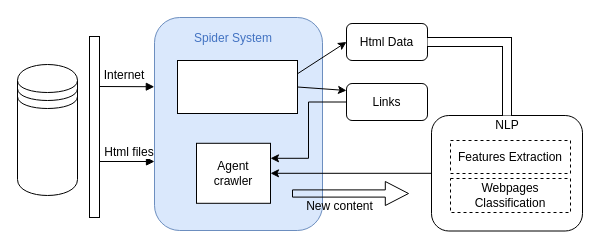
This 600x249 diagram has some shape labels left out. Each missing label, with the centre of its shape:
"Simple Spider" belongs at point (237, 87).
"Source" belongs at point (47, 130).
